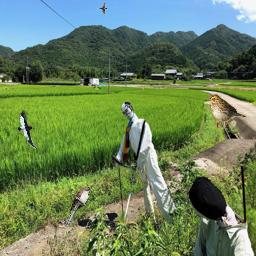Cuckoo: (65, 187, 91, 227)
Sparrow: (207, 93, 247, 128)
Swallow: (97, 3, 107, 14)
Woodpecker: (17, 110, 37, 149)
